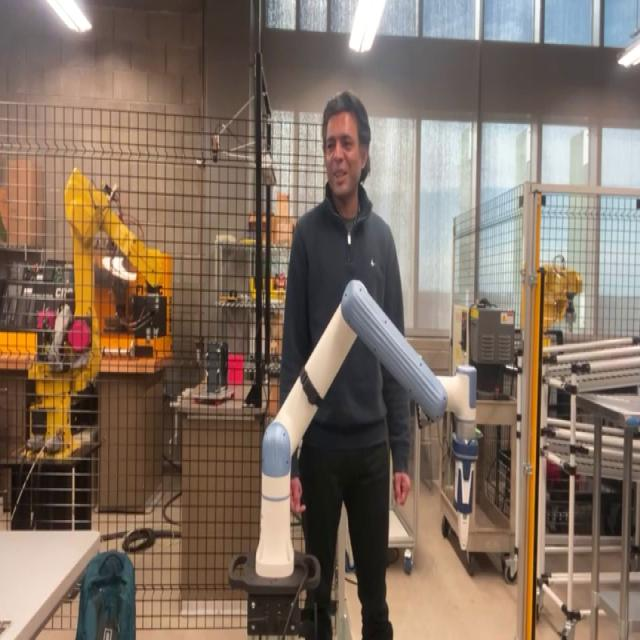robot: (227, 276, 449, 637)
